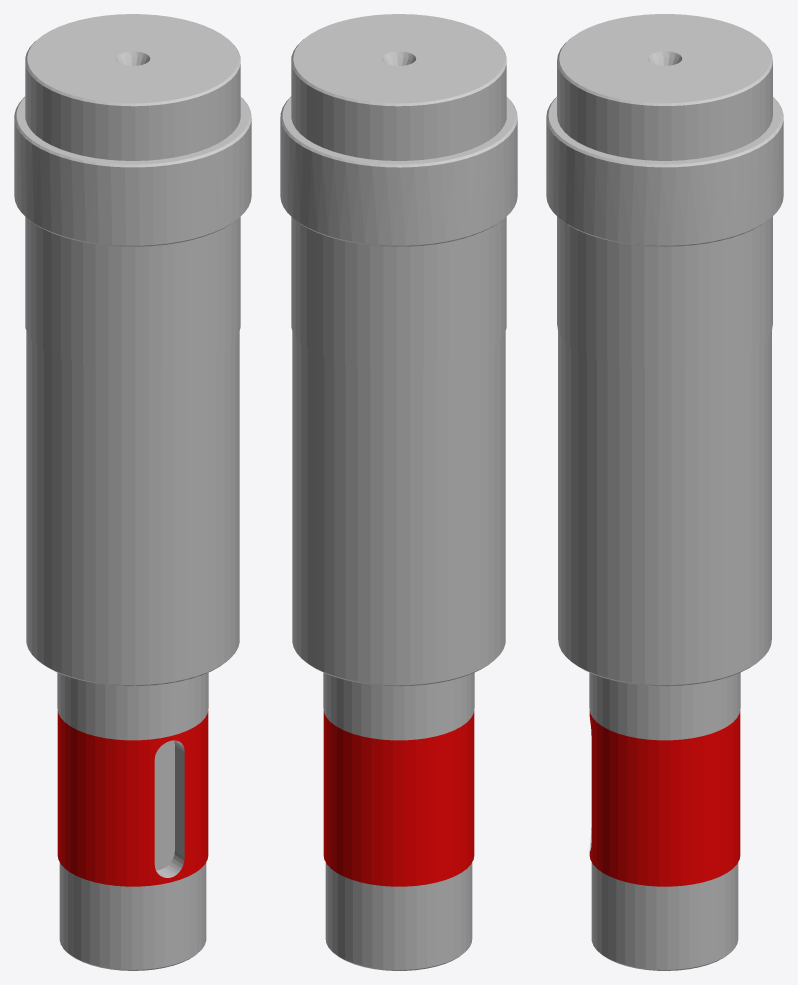
File: 4_stp_4_5.obj
The picture shows the model from 3 angles, left to right: view 1: azimuth 30°, elevation 25°; view 2: azimuth 150°, elevation 25°; view 3: azimuth 270°, elevation 25°; orthographic projection.
Parts seen in each view (by area): view 1: Object1; view 2: Object1; view 3: Object1.
Part boxes in pixels (x1=…): Object1: x1=14, y1=14, x2=251, y2=970; Object1: x1=280, y1=14, x2=517, y2=970; Object1: x1=546, y1=14, x2=783, y2=970.
Size of the model in its own units: 54.98 by 225 by 55.
